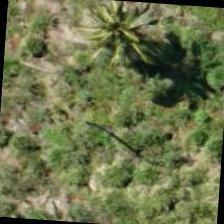Kelapa_Sawit: (65, 0, 161, 75)
